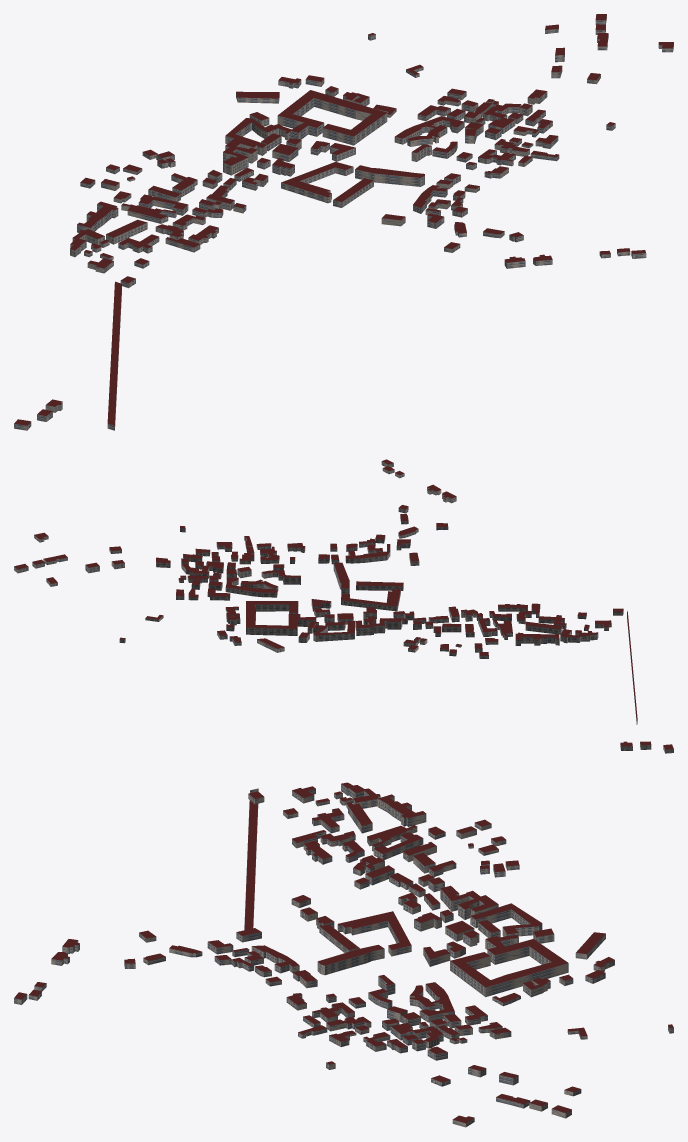
File: buildings.obj
The picture shows the model from 3 angles, top to bottom: view 1: azimuth 30°, elevation 25°; view 2: azimuth 150°, elevation 25°; view 3: azimuth 270°, elevation 25°; orthographic projection. The views are drawn at different scales.
Bounding box in the file's own units: 772 × 153 × 556.
Materials: 2 (1 with a texture image).
